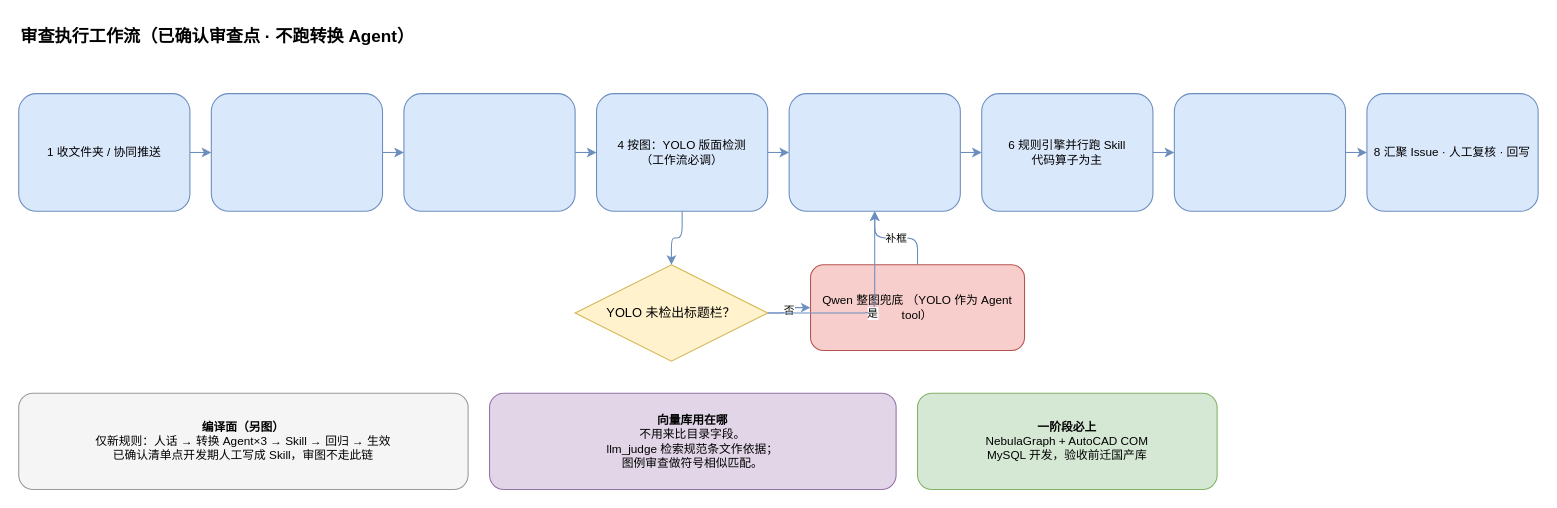
The diagram is 1557 pixels wide and 508 high, and some of its shapes have lost their labels. The shapes that lost their labels are listed below. From the top down, each one's centre as x and y in pixels, then its label:
At (296,152): "2 预处理 MinerU→MD · PDF→PNG · DWG→DXF".
At (489,152): "3 目录索引一致性（项目级） 抽 toc + 各图 title_block 代码比图号/阶段/张数".
At (874,152): "5 VLM 抽取写入工件库".
At (1259,152): "7 跨图 Skill + 少数 llm_judge 规范RAG / 图例相似".
